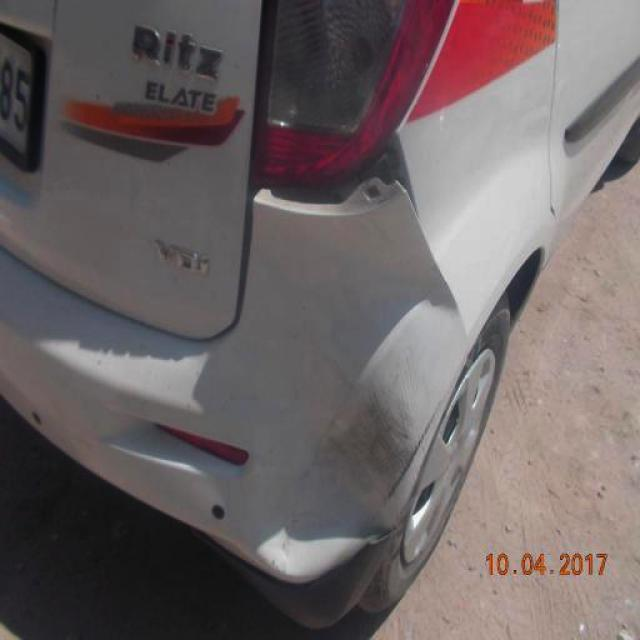car damage: (259, 392, 429, 578), (369, 257, 472, 423), (252, 129, 421, 220)
